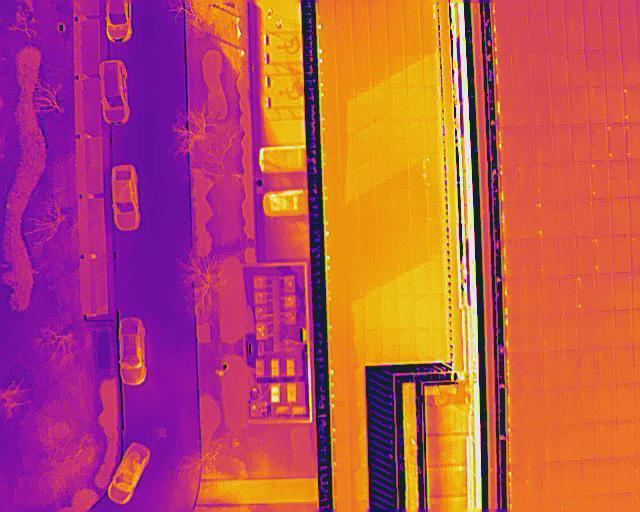Cell-Multi: (590, 160, 610, 199), (607, 121, 626, 161), (508, 462, 527, 501), (506, 314, 525, 352), (536, 201, 555, 238), (494, 15, 513, 52), (508, 427, 527, 464), (593, 235, 612, 272), (505, 280, 524, 315), (577, 274, 594, 311), (501, 166, 518, 201)
No-Anomaly: (577, 420, 599, 459), (614, 344, 635, 384), (523, 463, 545, 501), (542, 387, 562, 428), (530, 49, 550, 89), (613, 271, 633, 311), (533, 126, 554, 164), (579, 347, 598, 389), (561, 459, 581, 498), (615, 455, 635, 494), (597, 457, 617, 496), (541, 462, 561, 501), (511, 49, 531, 88), (559, 348, 579, 387), (579, 459, 600, 496), (521, 315, 542, 352), (552, 162, 572, 200), (515, 126, 535, 164), (562, 422, 581, 462), (548, 48, 567, 88), (531, 89, 551, 127), (558, 274, 577, 314), (600, 14, 621, 50), (518, 201, 537, 240), (520, 239, 539, 278), (596, 346, 615, 385), (526, 388, 545, 427), (582, 14, 602, 51), (613, 310, 633, 347), (618, 14, 639, 49), (557, 238, 576, 276), (617, 420, 636, 458), (538, 277, 557, 315), (596, 309, 615, 347), (614, 383, 633, 421), (543, 426, 563, 462), (604, 48, 622, 88), (610, 197, 630, 233), (550, 89, 570, 125), (539, 237, 557, 277), (610, 236, 630, 272), (524, 352, 544, 388), (591, 198, 610, 235), (609, 160, 628, 197), (594, 273, 612, 312), (560, 310, 578, 349), (562, 387, 580, 426), (510, 14, 530, 49), (528, 16, 548, 51), (556, 199, 574, 237), (599, 421, 617, 459), (526, 425, 544, 463), (568, 50, 586, 88), (518, 164, 537, 200), (589, 87, 607, 124), (586, 51, 604, 88), (573, 161, 591, 198), (575, 237, 593, 274), (579, 312, 597, 349), (573, 200, 592, 235), (544, 350, 561, 389), (569, 89, 587, 125), (606, 87, 624, 123), (541, 315, 559, 351), (515, 91, 533, 126), (580, 388, 598, 423), (590, 124, 607, 161), (572, 125, 589, 162), (553, 125, 570, 162), (522, 279, 539, 316), (565, 16, 584, 49), (546, 16, 565, 49), (598, 386, 615, 422), (537, 164, 554, 199), (501, 127, 517, 163), (496, 52, 512, 88)
Unclassified: (503, 238, 522, 278), (507, 391, 527, 429), (496, 88, 515, 127), (502, 202, 520, 239), (506, 352, 524, 388)
